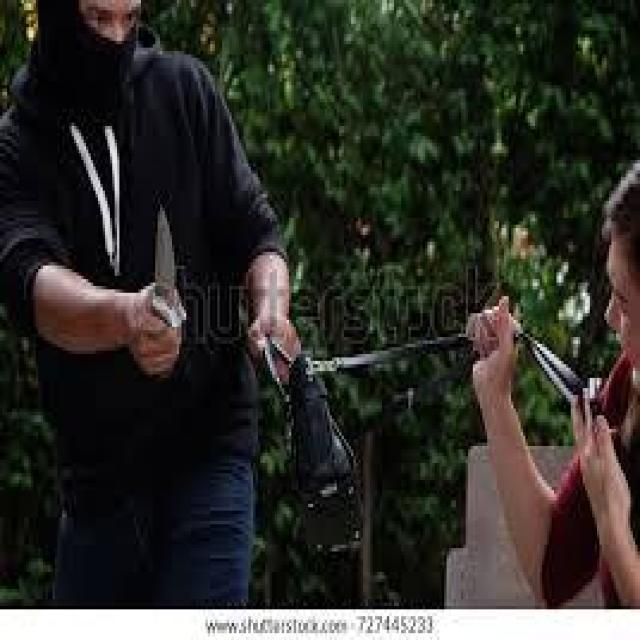faca: (119, 181, 196, 405)
